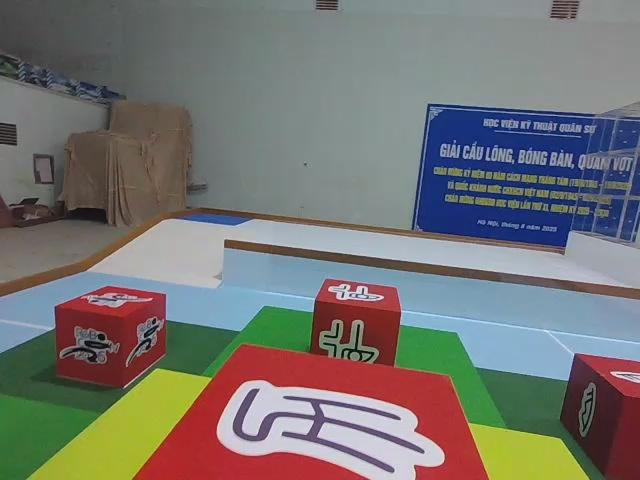R1: (53, 282, 169, 389)
R2 Fake: (127, 339, 491, 480), (307, 276, 403, 381)
R2 Real: (558, 351, 640, 480)
